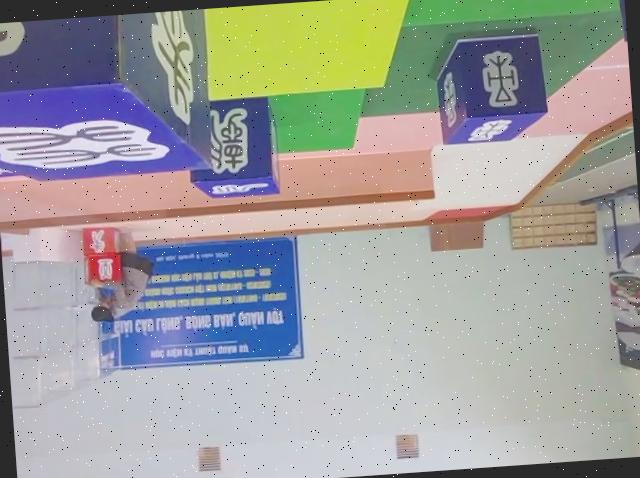R2 Fake Blue: (0, 8, 206, 187), (180, 94, 280, 200)
R2 Real Blue: (432, 29, 549, 144)
